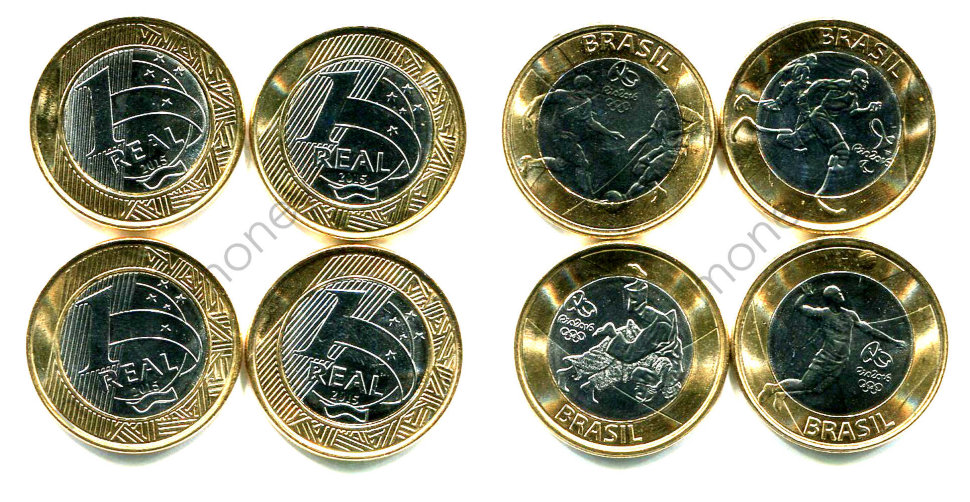coin: (26, 15, 248, 235), (732, 236, 948, 460), (511, 247, 730, 464), (247, 245, 463, 463), (250, 27, 468, 242), (721, 19, 937, 233), (502, 26, 717, 237), (31, 238, 240, 453)
